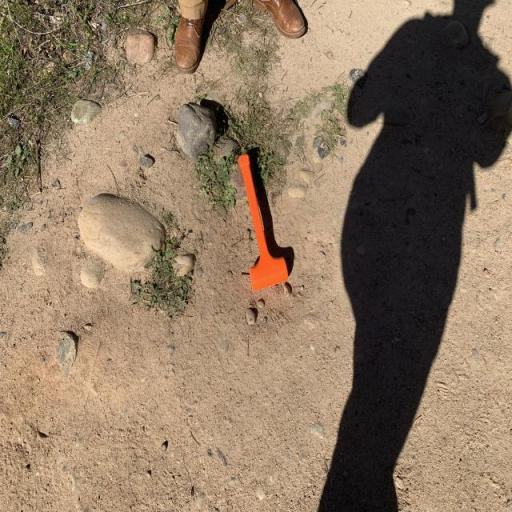mallet: (232, 148, 293, 297)
